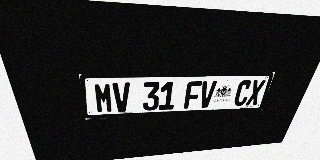1: (159, 81, 176, 110)
3: (143, 82, 160, 111)
C: (232, 80, 253, 106)
F: (184, 81, 202, 109)
M: (93, 83, 113, 113)
V: (112, 82, 130, 112), (198, 81, 217, 108)
X: (245, 80, 266, 106)
